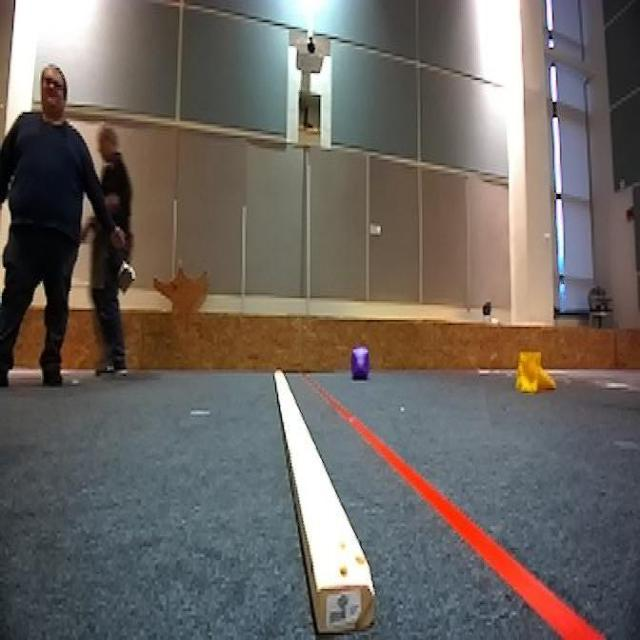frc_cone: (514, 354, 554, 395)
frc_cube: (348, 346, 374, 383)
